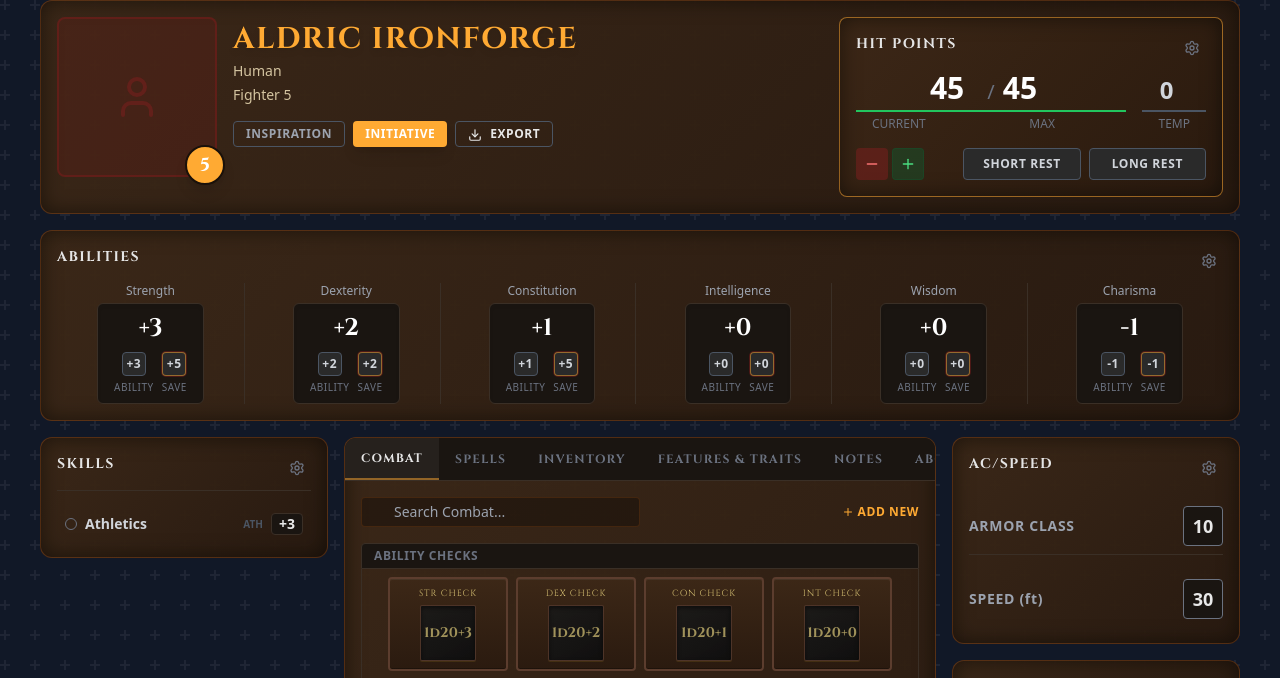
Inventory tab › shows an empty state message when character has no equipment
This screenshot has width=1280, height=678.
Click the button "INVENTORY".
click(582, 459)  # box [522, 438, 642, 480]
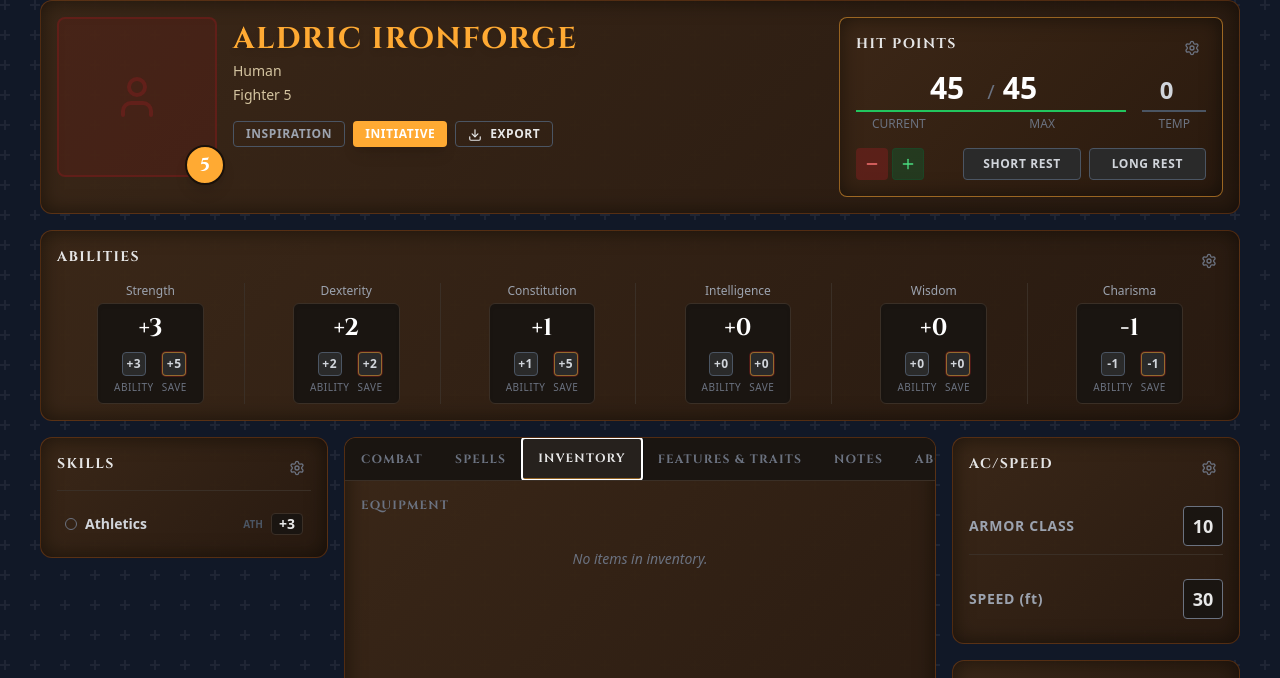
Check: the text "No items in inventory." is shown, box [572, 549, 708, 568]
